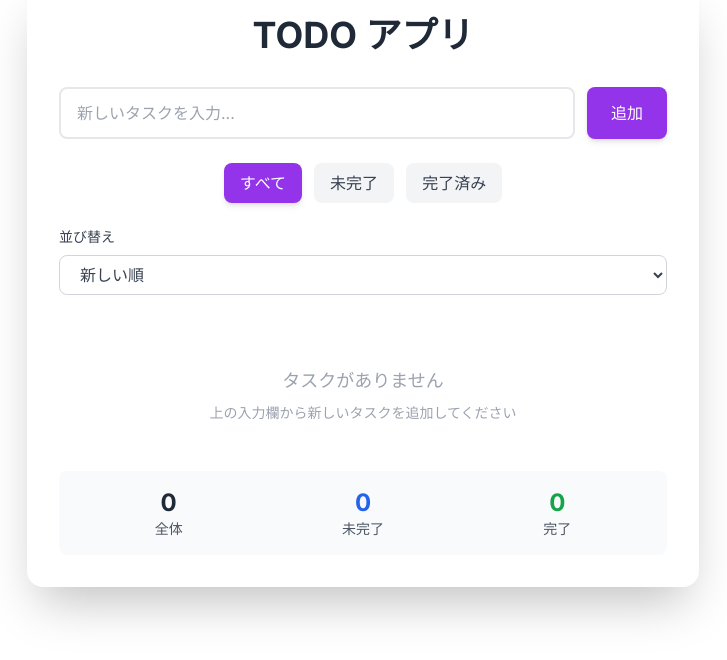
Test: TodoApp › should filter todos by "完了済み"
Type "Active task" into the field with placeholder "新しいタスクを入力..." at (317, 113), box [59,87,575,139]
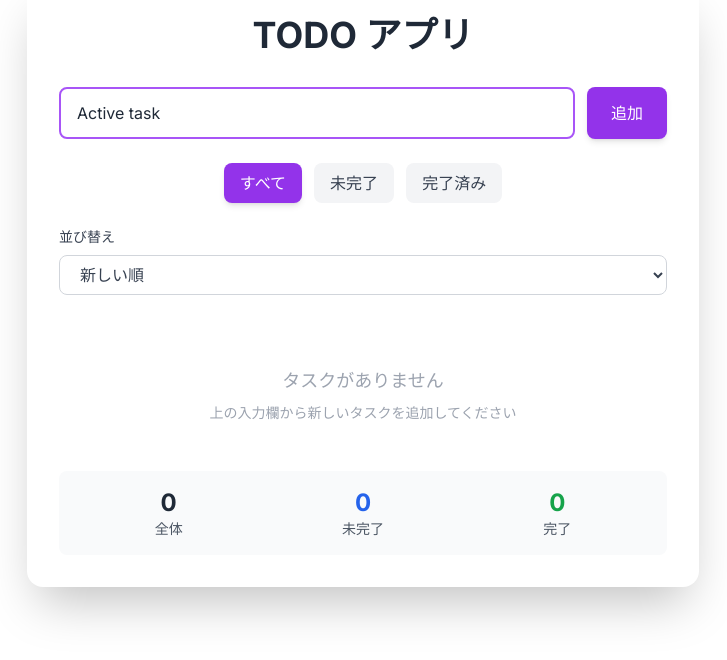
Click the button "追加" at (627, 113), box [587,87,667,139]
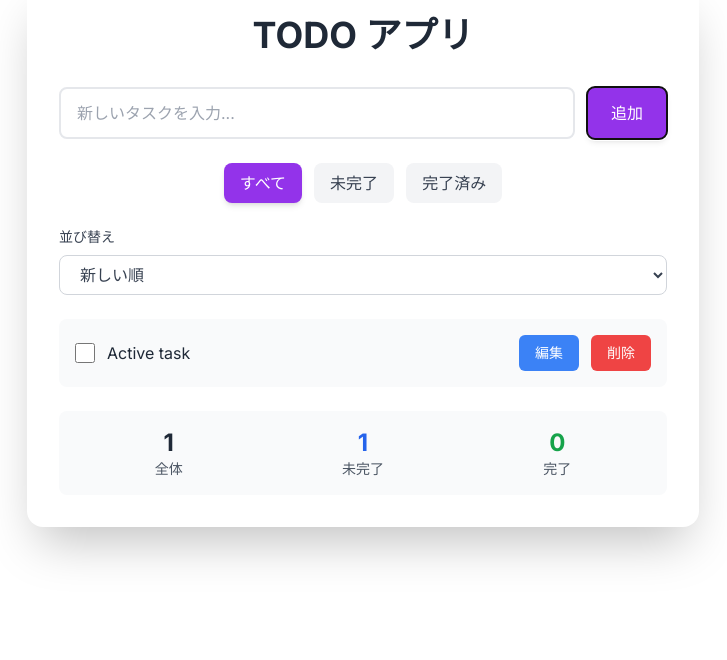
Type "Completed task" into the field with placeholder "新しいタスクを入力..." at (317, 113), box [59,87,575,139]
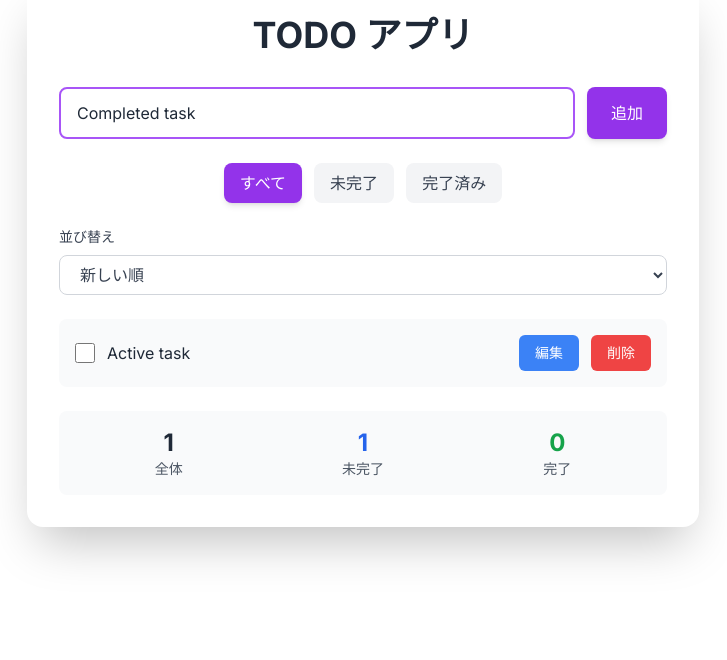
Click the button "追加" at (627, 113), box [587,87,667,139]
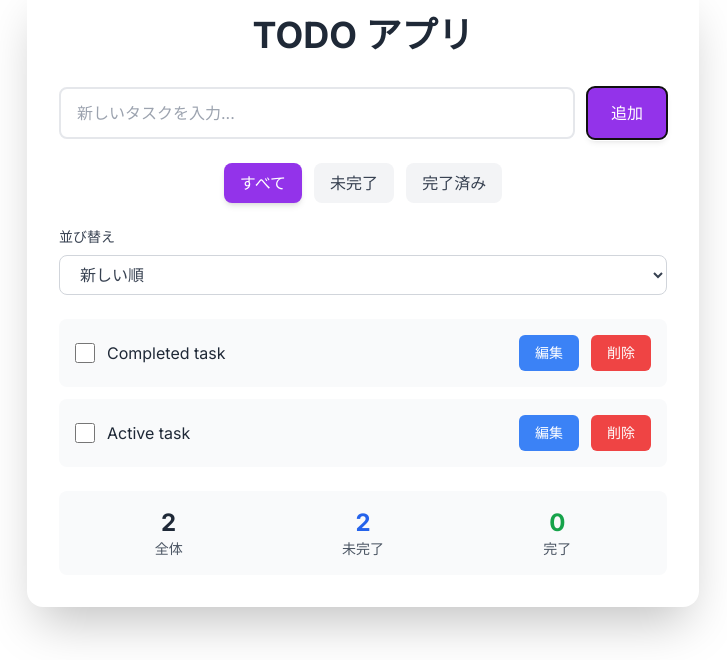
Check: the text "Active task" is shown, box [107,423,190,443]
Check: the text "Completed task" is shown, box [107,343,226,363]
Find checkbox for "Completed task" specifically
Click the checkbox next to "Completed task" at (85, 353), box [75,343,95,363]
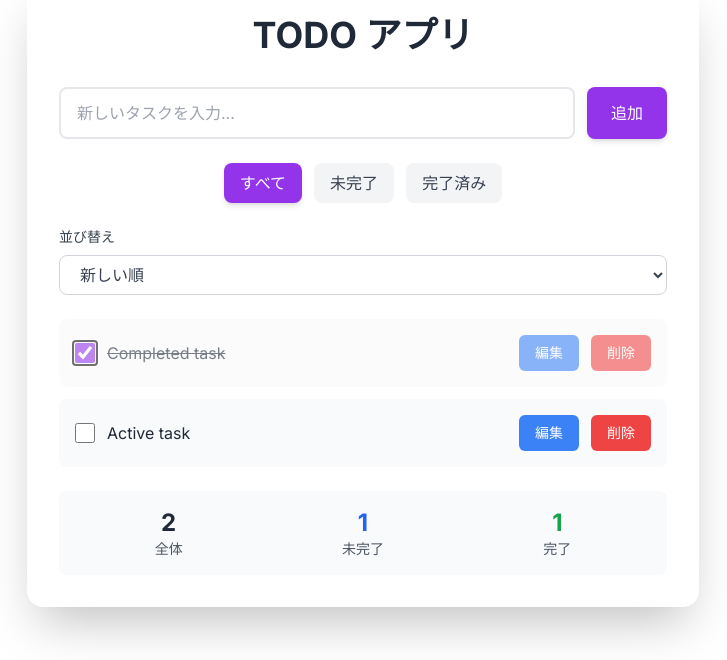
Click the button "完了済み" at (454, 183), box [406,163,502,203]
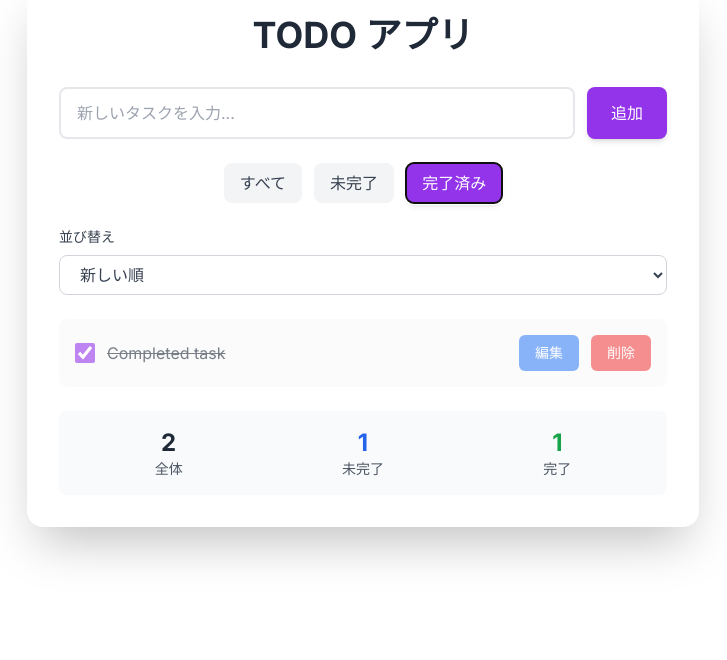
Check: the text "Completed task" is shown, box [107,343,226,363]
Check: the text "Active task" is gone
